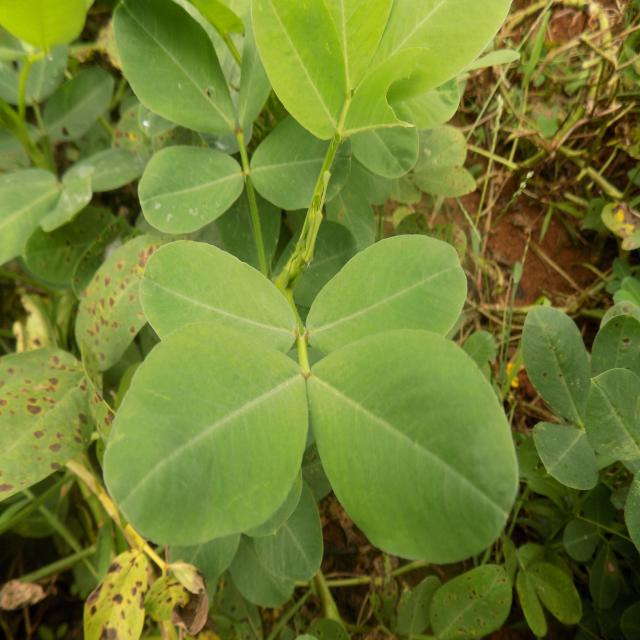Ground nut_healthy: (310, 357, 520, 560), (100, 347, 304, 546), (306, 232, 480, 357), (115, 7, 256, 141), (130, 240, 298, 352), (228, 0, 346, 130), (139, 148, 241, 236), (252, 128, 353, 211)
Ground nut_tikka leaf spot: (0, 340, 97, 494), (81, 237, 147, 353), (82, 547, 149, 640)
